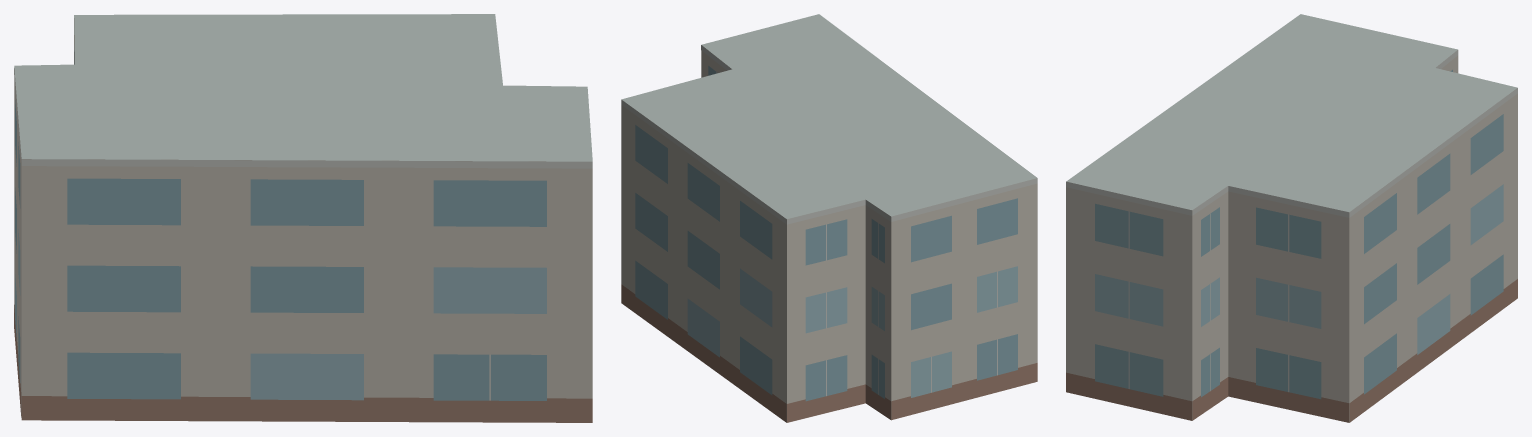
The model's file is survey-upis-32710048.glb.
3 renders of one model, left to right at view 1: azimuth 30°, elevation 25°; view 2: azimuth 150°, elevation 25°; view 3: azimuth 270°, elevation 25°, orthographic. The views are drawn at different scales.
Visible parts, largest first — view 1: survey-upis-32710048.tmp; view 2: survey-upis-32710048.tmp; view 3: survey-upis-32710048.tmp.
Part boxes in pixels (<box>): survey-upis-32710048.tmp: <box>14,14,592,422</box>; survey-upis-32710048.tmp: <box>621,14,1037,422</box>; survey-upis-32710048.tmp: <box>1066,14,1517,422</box>.
Size of the model in its own units: 18.48 by 9.15 by 17.79.
